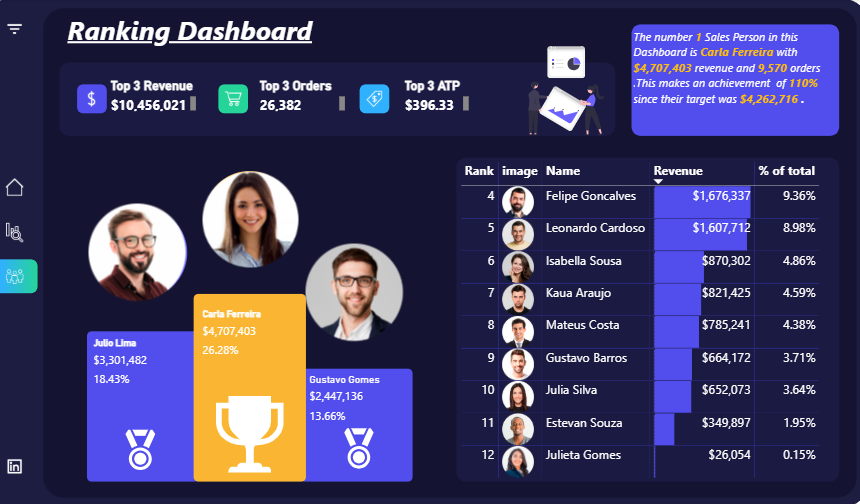

This screenshot's page, from the dashboard's own definition file:
{"tool":"powerbi","page":{"name":"Ranking","canvas":[1280,720],"ordinal":1},"visuals":[{"type":"multiRowCard","title":"Top 3 Revenue","fields":{"Values":["measuer.Revenue"]},"box":[204.9,112.5,131,52.1],"z":0},{"type":"multiRowCard","title":"Top 3 Orders","fields":{"Values":["measuer.Orders"]},"box":[416.6,112.5,131,52.1],"z":1000},{"type":"multiRowCard","title":"Top 3 ATP","fields":{"Values":["measuer.ATP"]},"box":[621.5,112.5,100.8,52.1],"z":2000},{"type":"textbox","box":[144.6,12.8,420.9,66.6],"z":3000},{"type":"actionButton","box":[41.1,303.3,70.9,56.7],"z":4000},{"type":"simpleImageEBC4593F96F1425FB3D84C5BF02B5075","fields":{"imageURL":["dSales person.URL"]},"box":[336,240.2,146.1,147.8],"z":5000},{"type":"tableEx","fields":{"Values":["measuer.Rank","dSales person.URL","dSales person.Salesperson","measuer.Revenue","measuer.Measure"]},"box":[702.2,225.1,537.5,461.9],"z":6000},{"type":"actionButton","box":[51.1,313.3,70.9,56.7],"z":7000},{"type":"simpleImageEBC4593F96F1425FB3D84C5BF02B5075","fields":{"imageURL":["dSales person.URL"]},"box":[174.7,285.6,161.3,147.8],"z":8000},{"type":"simpleImageEBC4593F96F1425FB3D84C5BF02B5075","fields":{"imageURL":["dSales person.URL"]},"box":[482.1,341,157.9,147.8],"z":9000},{"type":"multiRowCard","fields":{"Values":["dSales person.Salesperson","measuer.Revenue","measuer.Measure"]},"box":[336,433.4,146.1,147.8],"z":10000},{"type":"multiRowCard","fields":{"Values":["dSales person.Salesperson","measuer.Revenue","measuer.Measure"]},"box":[181.4,475.4,146.1,147.8],"z":11000},{"type":"textbox","box":[947.4,37,292.3,157.9],"z":12000},{"type":"multiRowCard","fields":{"Values":["dSales person.Salesperson","measuer.Revenue","measuer.Measure"]},"box":[487.1,525.8,146.1,147.8],"z":13000},{"type":"actionButton","title":"ON filter","box":[38.3,21.3,70.3,55.4],"z":14000}]}

Visuals, with their boxes on the page's 1280x720 design canvas (x1, y1, x2, y2). These are canvas units, not pixel positions in the 860x504 screenshot, which may show the page scaled, cropped or inside an application window:
"Top 3 Revenue" multiRowCard: pyautogui.locateOnScreen(205, 112, 336, 165)
"Top 3 Orders" multiRowCard: pyautogui.locateOnScreen(417, 112, 548, 165)
"Top 3 ATP" multiRowCard: pyautogui.locateOnScreen(622, 112, 722, 165)
textbox: pyautogui.locateOnScreen(145, 13, 566, 79)
actionButton: pyautogui.locateOnScreen(41, 303, 112, 360)
simpleImageEBC4593F96F1425FB3D84C5BF02B5075 - dSales person.URL: pyautogui.locateOnScreen(336, 240, 482, 388)
tableEx - measuer.Rank x dSales person.URL: pyautogui.locateOnScreen(702, 225, 1240, 687)
actionButton: pyautogui.locateOnScreen(51, 313, 122, 370)
simpleImageEBC4593F96F1425FB3D84C5BF02B5075 - dSales person.URL: pyautogui.locateOnScreen(175, 286, 336, 433)
simpleImageEBC4593F96F1425FB3D84C5BF02B5075 - dSales person.URL: pyautogui.locateOnScreen(482, 341, 640, 489)
multiRowCard - dSales person.Salesperson x measuer.Revenue: pyautogui.locateOnScreen(336, 433, 482, 581)
multiRowCard - dSales person.Salesperson x measuer.Revenue: pyautogui.locateOnScreen(181, 475, 328, 623)
textbox: pyautogui.locateOnScreen(947, 37, 1240, 195)
multiRowCard - dSales person.Salesperson x measuer.Revenue: pyautogui.locateOnScreen(487, 526, 633, 674)
"ON filter" actionButton: pyautogui.locateOnScreen(38, 21, 109, 77)
